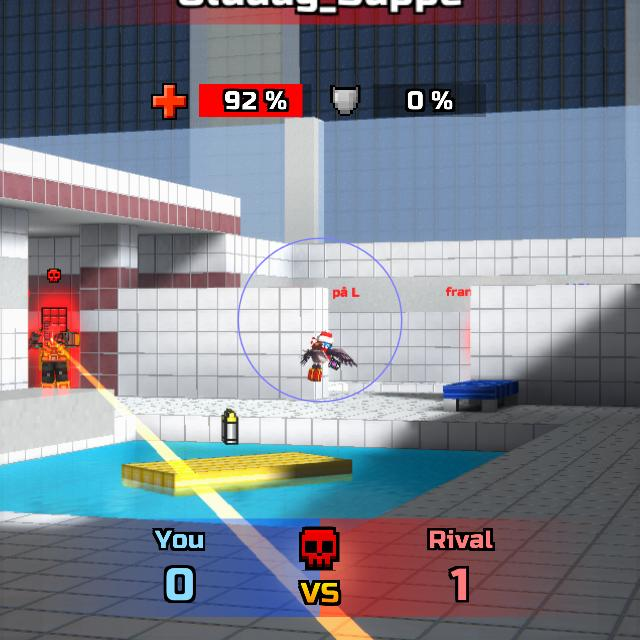Enemy: (30, 309, 81, 391)
